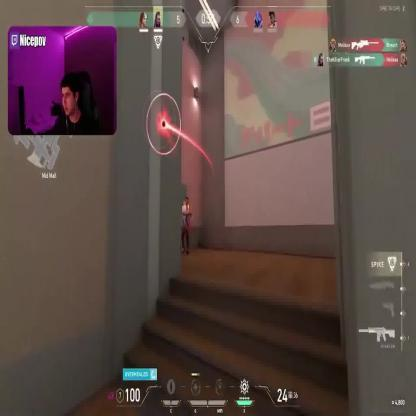enemy: (180, 194, 192, 256)
enemy_head: (184, 196, 190, 206)
